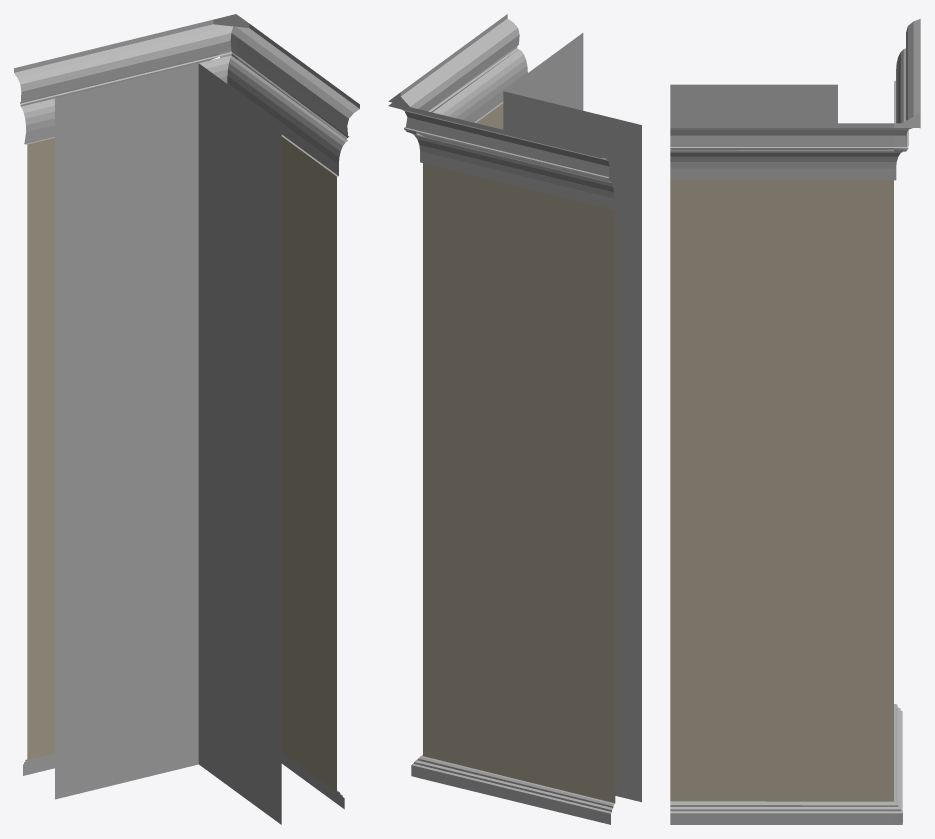
The model's file is 1x3-5 pared_esquina.fbx.
The picture shows the model from 3 angles, left to right: view 1: azimuth 30°, elevation 25°; view 2: azimuth 150°, elevation 25°; view 3: azimuth 270°, elevation 25°; orthographic projection. The views are drawn at different scales.
Parts seen in each view (by area): view 1: 1x3'5 pared_esquina; view 2: 1x3'5 pared_esquina; view 3: 1x3'5 pared_esquina.
Boxes of the visible parts, box(x1,y1,x2,y2) form: 1x3'5 pared_esquina: box(14, 14, 359, 824); 1x3'5 pared_esquina: box(388, 14, 641, 824); 1x3'5 pared_esquina: box(670, 19, 920, 824).
Bounding box in the file's own units: 117 × 350 × 112.
